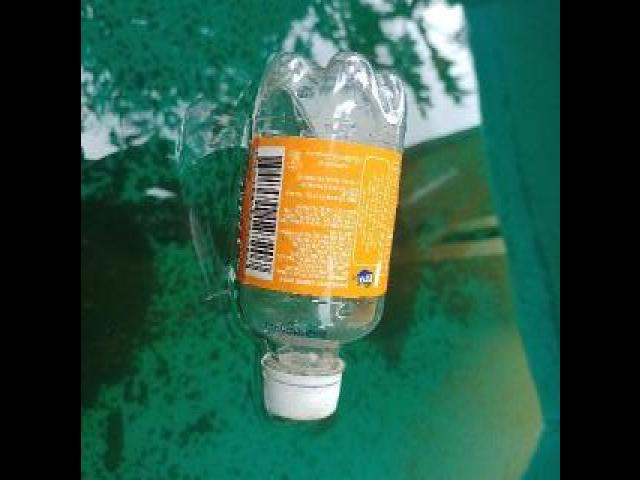Bottle: (230, 54, 408, 424)
